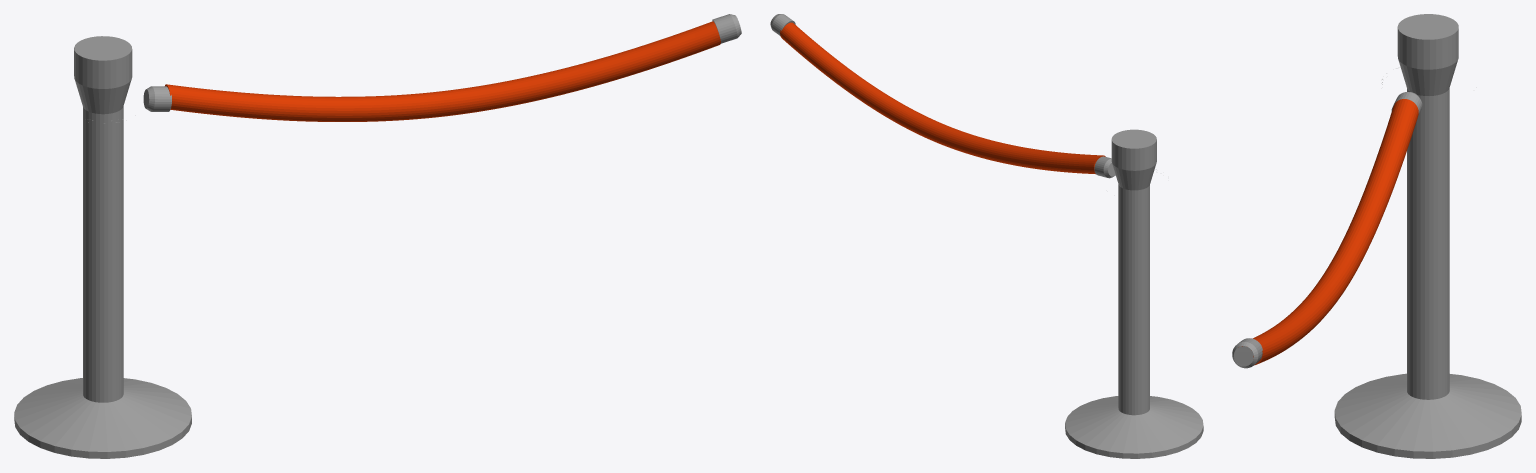
Rendered from stanchion.glb.
The picture shows the model from 3 angles, left to right: view 1: azimuth 30°, elevation 25°; view 2: azimuth 150°, elevation 25°; view 3: azimuth 270°, elevation 25°; orthographic projection. The views are drawn at different scales.
Visible parts, largest first — view 1: Cylinder.044_213; view 2: Cylinder.044_213; view 3: Cylinder.044_213.
Boxes of the visible parts, x1,y1,x2,y2 form: Cylinder.044_213: [14, 14, 741, 458]; Cylinder.044_213: [770, 14, 1203, 458]; Cylinder.044_213: [1232, 14, 1521, 458].
Size of the model in its own units: 2.86 by 1.62 by 1.08.
